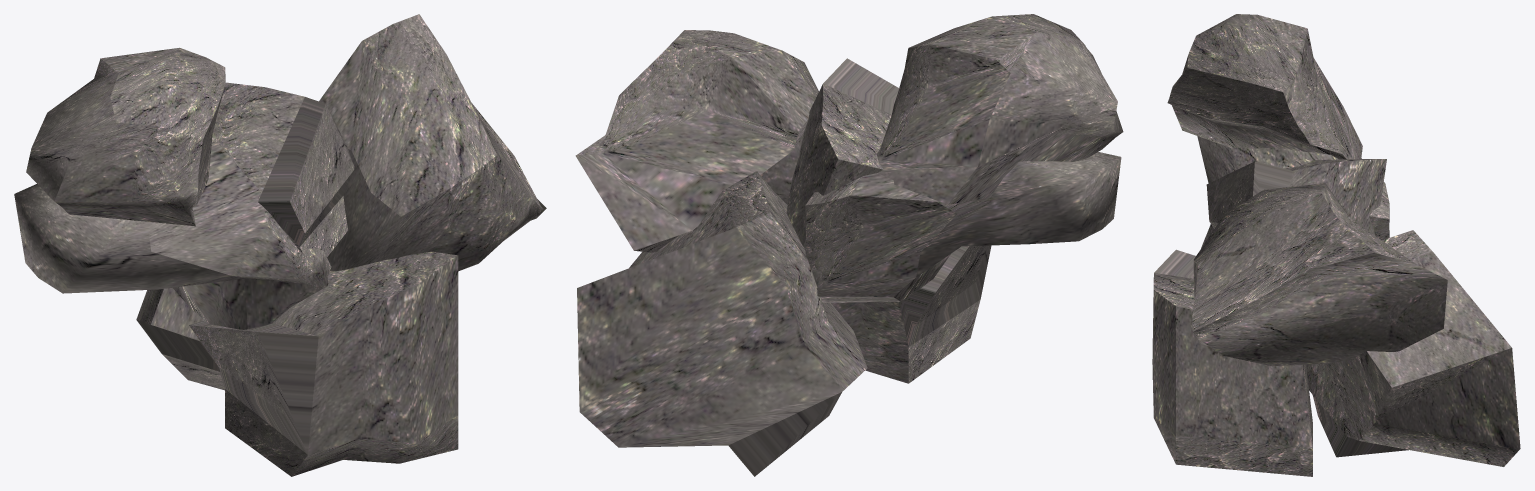
File: obstGrp.fbx
The picture shows the model from 3 angles, left to right: view 1: azimuth 30°, elevation 25°; view 2: azimuth 150°, elevation 25°; view 3: azimuth 270°, elevation 25°; orthographic projection. The views are drawn at different scales.
Visible parts, largest first — view 1: Rock_05, Rock_04, Rock_02, Rock_03, Rock_06, Rock_01; view 2: Rock_01, Rock_04, Rock_03, Rock_02, Rock_05, Rock_06; view 3: Rock_04, Rock_01, Rock_05, Rock_03, Rock_06, Rock_02.
Part boxes in pixels (<box>): Rock_05: <box>189,251,458,476</box>; Rock_04: <box>319,14,546,271</box>; Rock_02: <box>14,139,331,329</box>; Rock_03: <box>26,47,225,226</box>; Rock_06: <box>212,82,354,256</box>; Rock_01: <box>136,288,224,390</box>; Rock_01: <box>577,171,867,476</box>; Rock_04: <box>575,30,818,252</box>; Rock_03: <box>877,14,1123,204</box>; Rock_02: <box>805,144,1121,302</box>; Rock_05: <box>812,245,991,383</box>; Rock_06: <box>786,58,898,251</box>; Rock_04: <box>1190,183,1447,366</box>; Rock_01: <box>1306,230,1520,466</box>; Rock_05: <box>1152,249,1312,476</box>; Rock_03: <box>1167,14,1362,159</box>; Rock_06: <box>1206,159,1386,235</box>; Rock_02: <box>1197,136,1389,248</box>.
Bounding box in the file's own units: 274 × 234 × 217.
